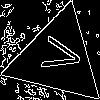V: (32, 33, 84, 77)
